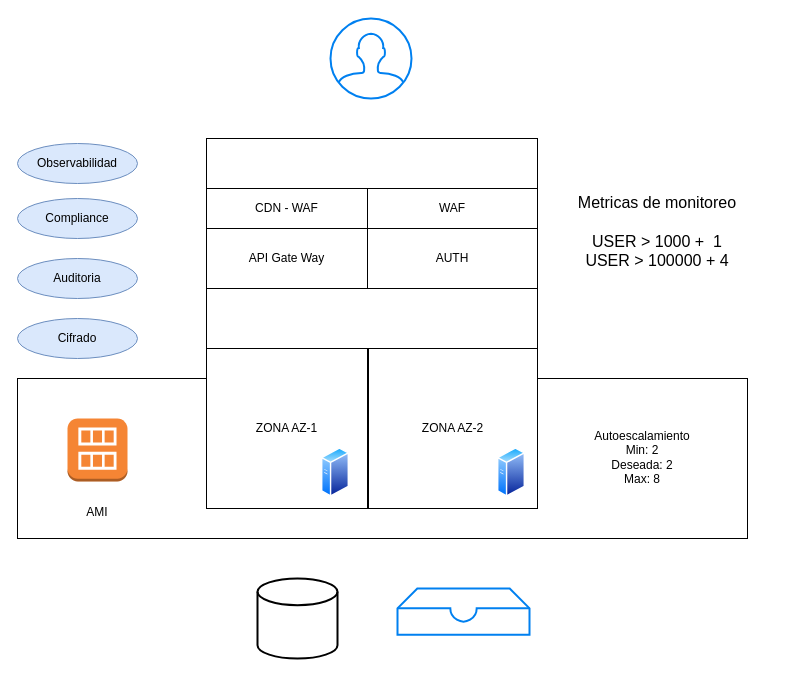
Image size: 785x676. Some labels were removed from this diagram. Each missing label, with the centre of its shape:
"Balanceador de Aplicaciones" goes at point (372, 318).
"DNS - dominio.com" goes at point (372, 163).
